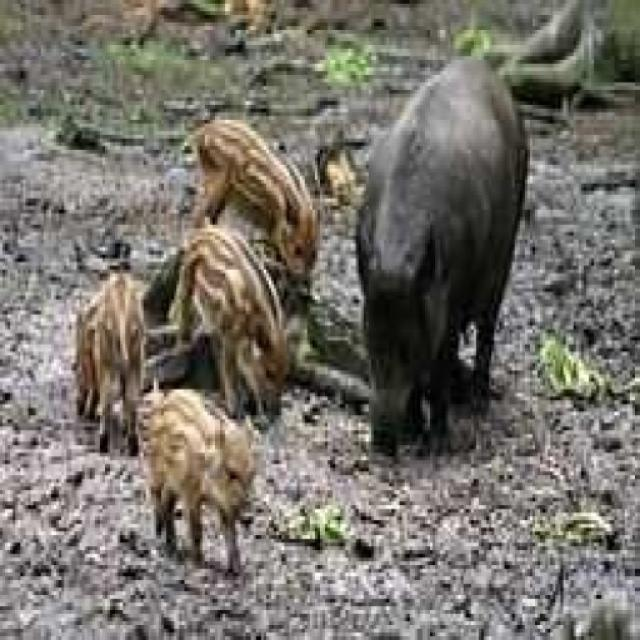pig: (354, 52, 581, 457), (158, 202, 296, 417), (199, 104, 329, 298), (152, 383, 275, 576), (83, 241, 134, 462)
